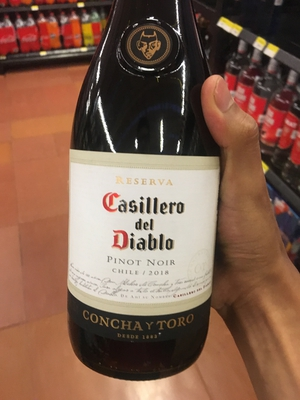casillero del diablo pinot noir: (64, 12, 227, 374)
